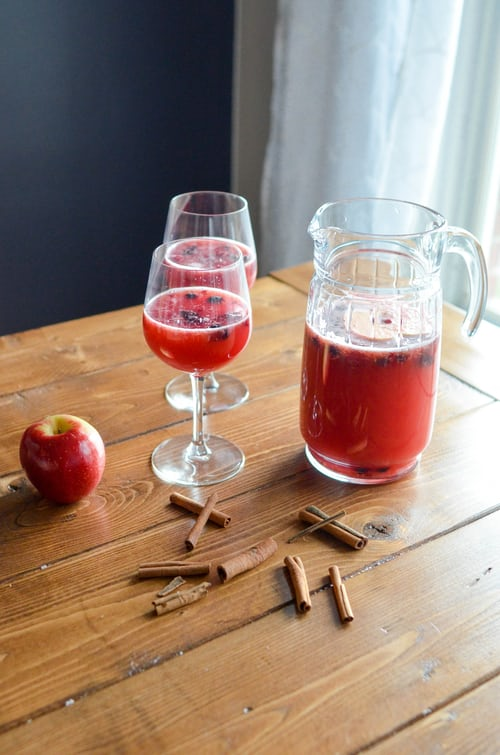apple: (18, 411, 108, 508)
